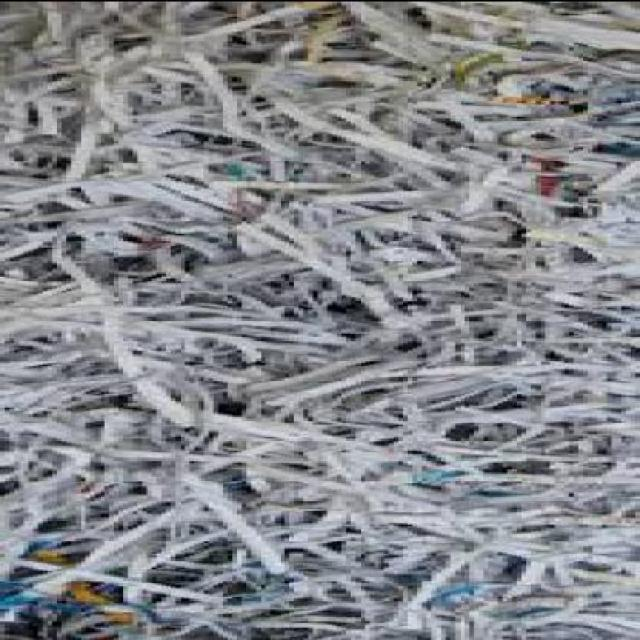PAPER: (0, 1, 637, 638)
